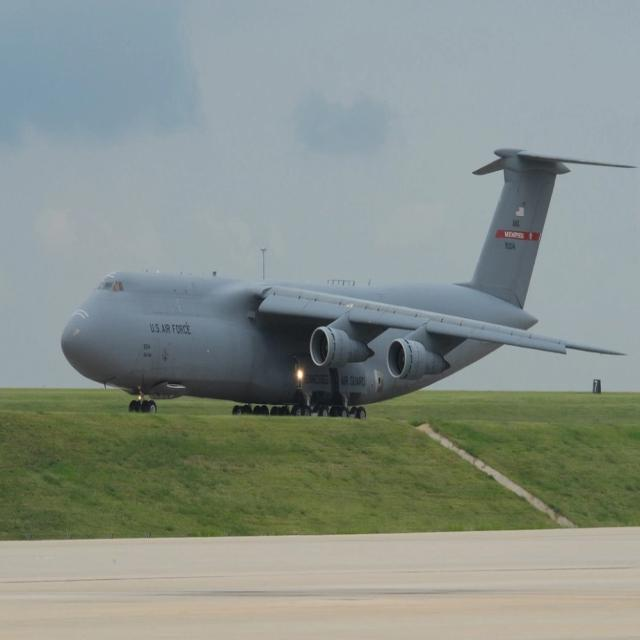C5: (49, 115, 640, 489)
